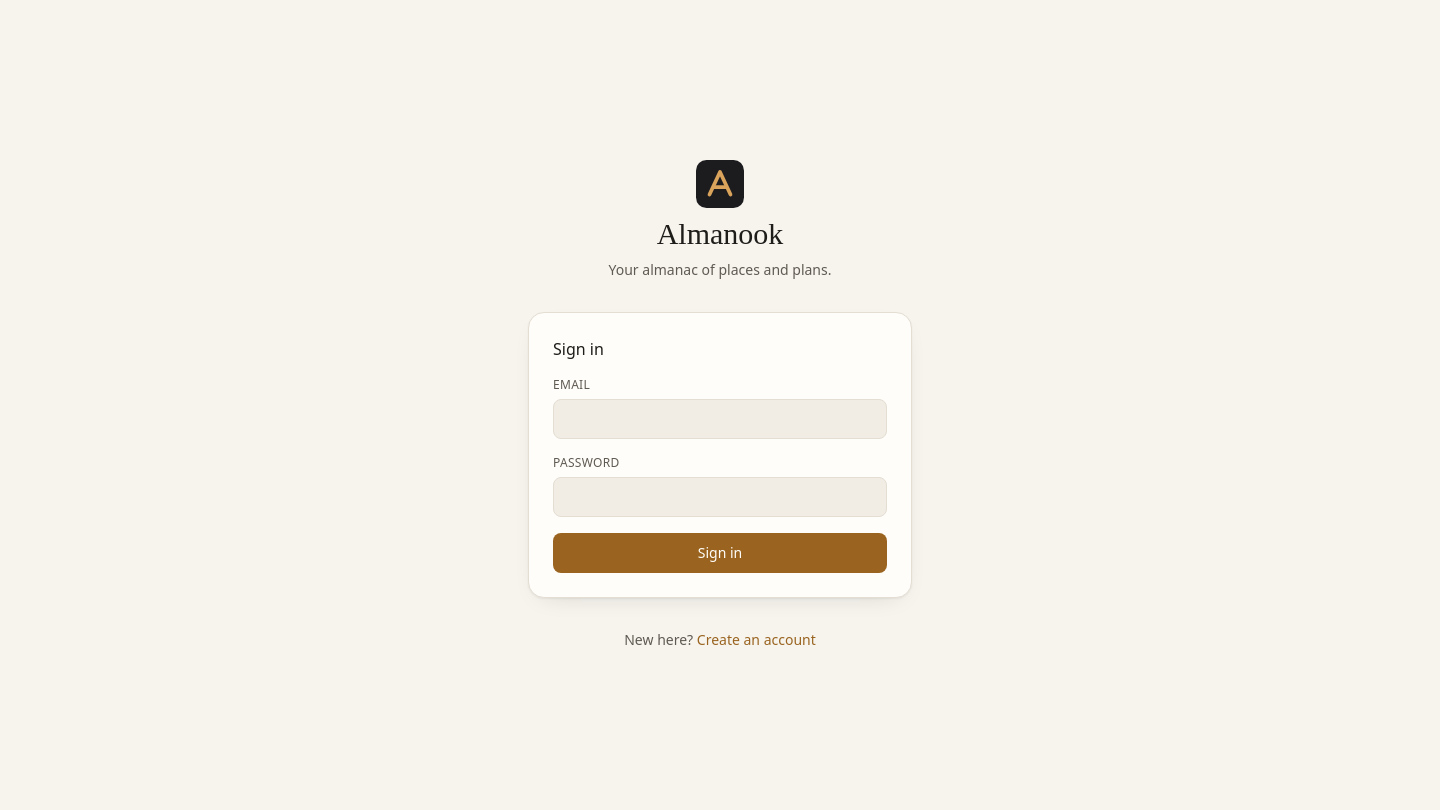
Test: navigation and auth › signs in and lands on the collection
The image size is (1440, 810).
Type "ada@example.com" into the field labelled "Email". click: (720, 419)
box: [553,399,887,439]
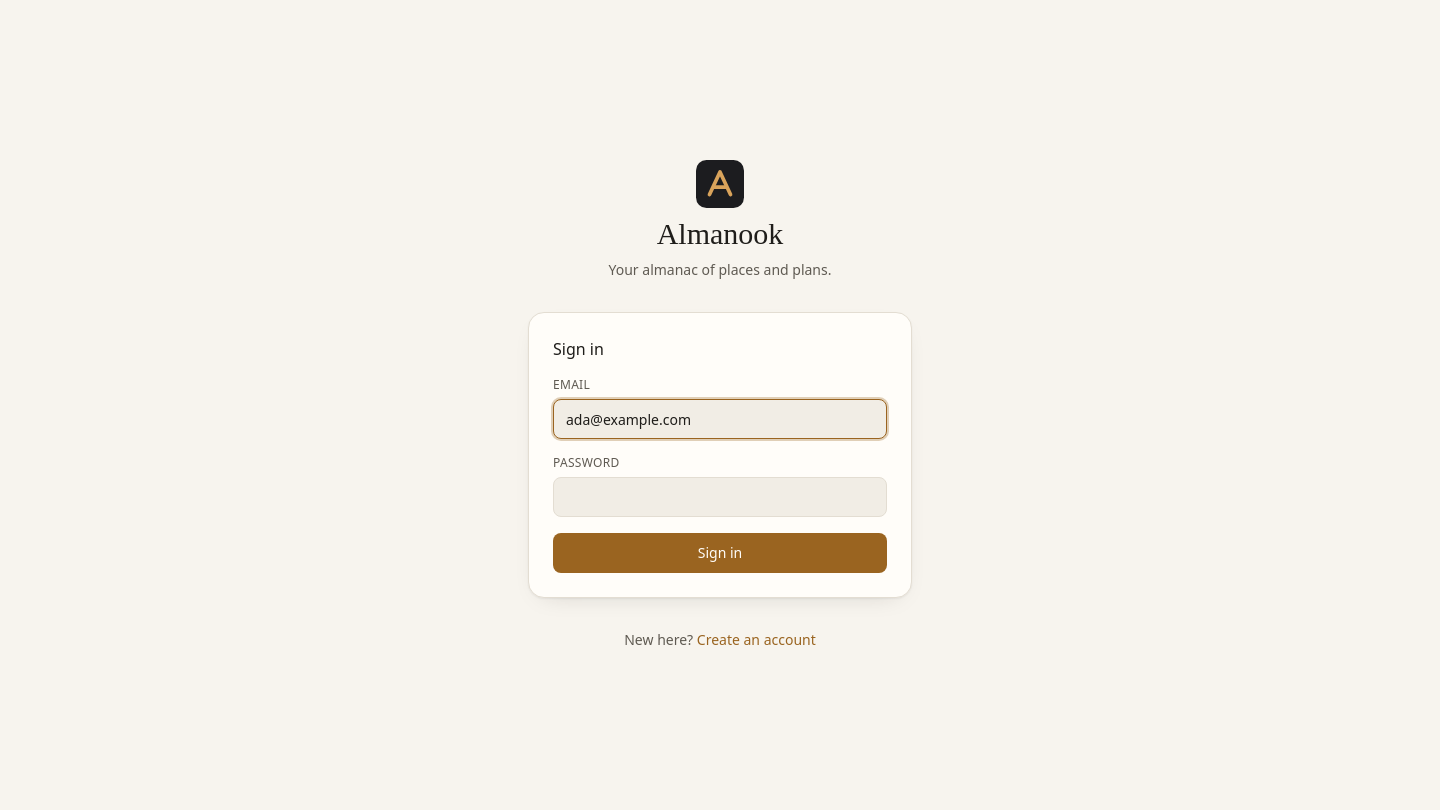
Type "wrong" into the password field labelled "Password". click: (720, 497)
box: [553,477,887,517]
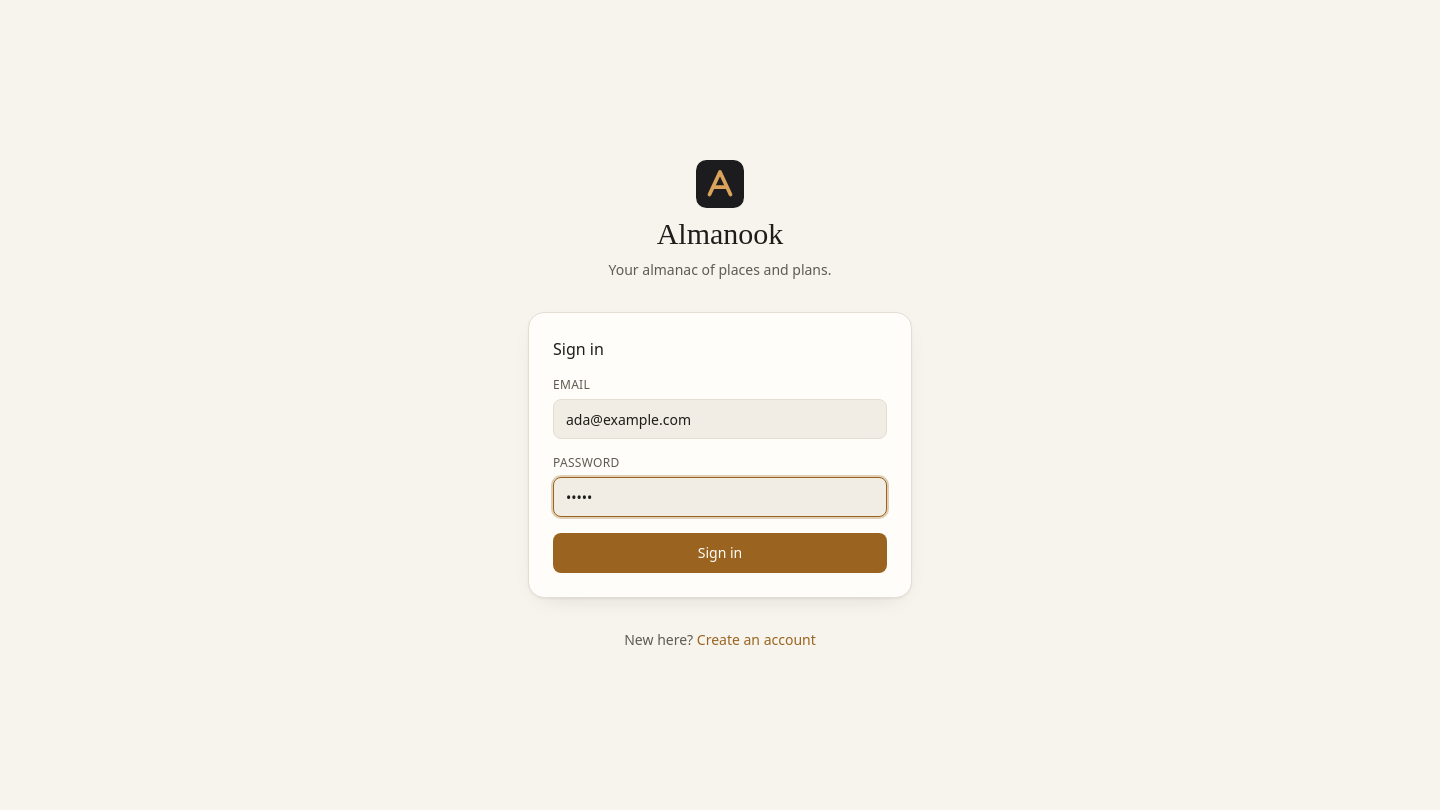
Click the button "Sign in". click: (720, 553)
box: [553,533,887,573]
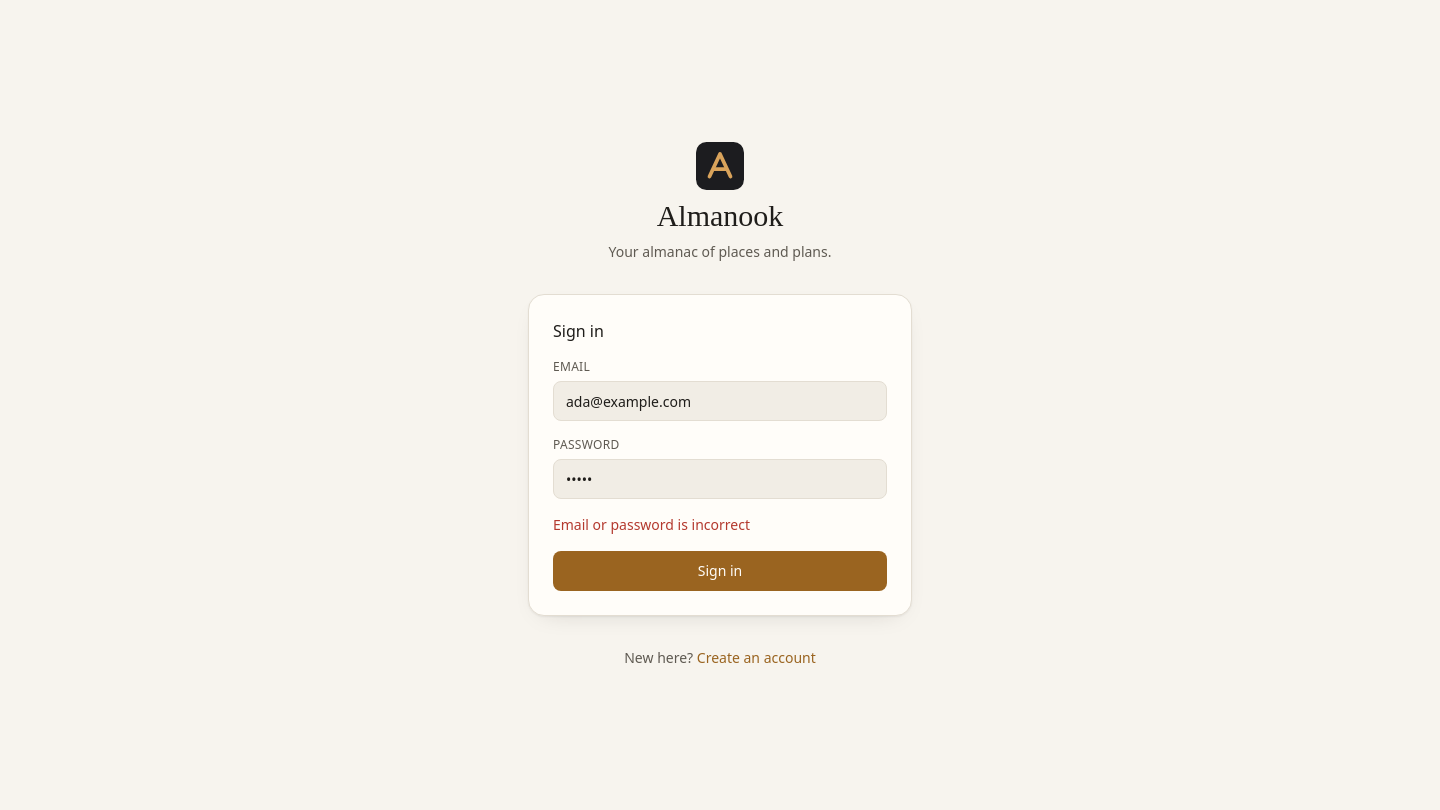
Now the message reads "Email or password is incorrect", box [553,515,750,534]
Type "correct-horse" into the password field labelled "Password". click: (720, 479)
box: [553,459,887,499]
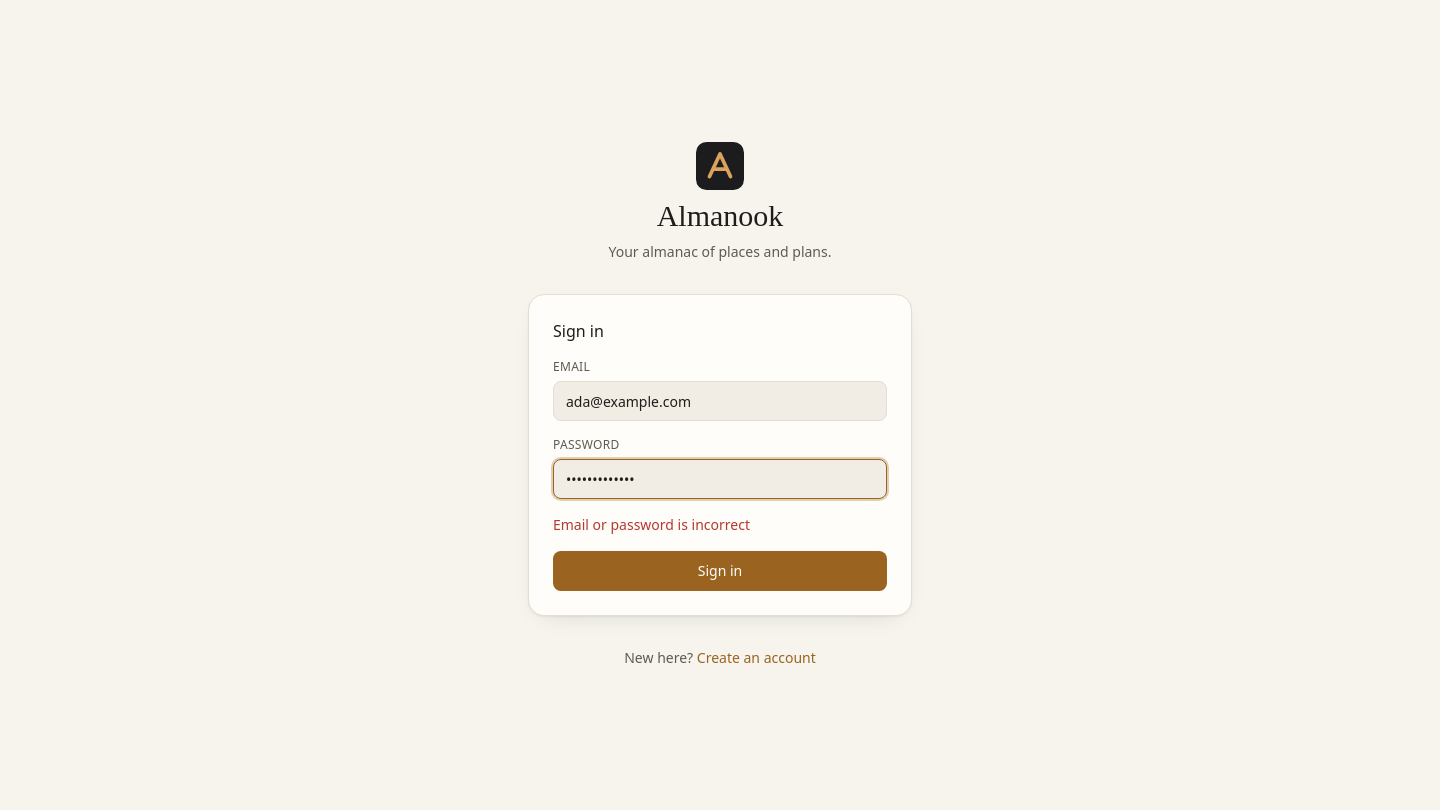
Click the button "Sign in". click: (720, 571)
box: [553,551,887,591]
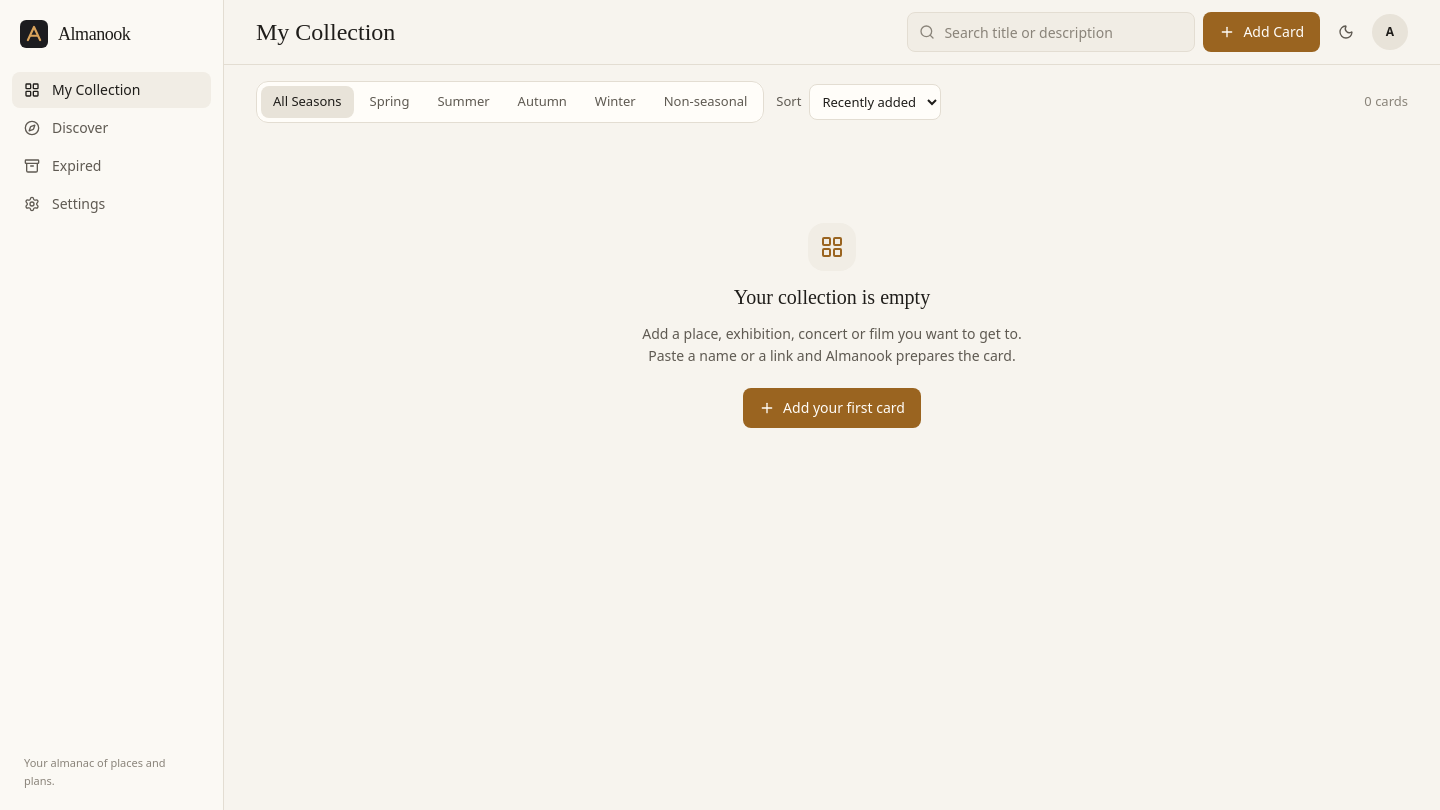
Now the heading "My Collection" is shown, box [256,16,395,48]
